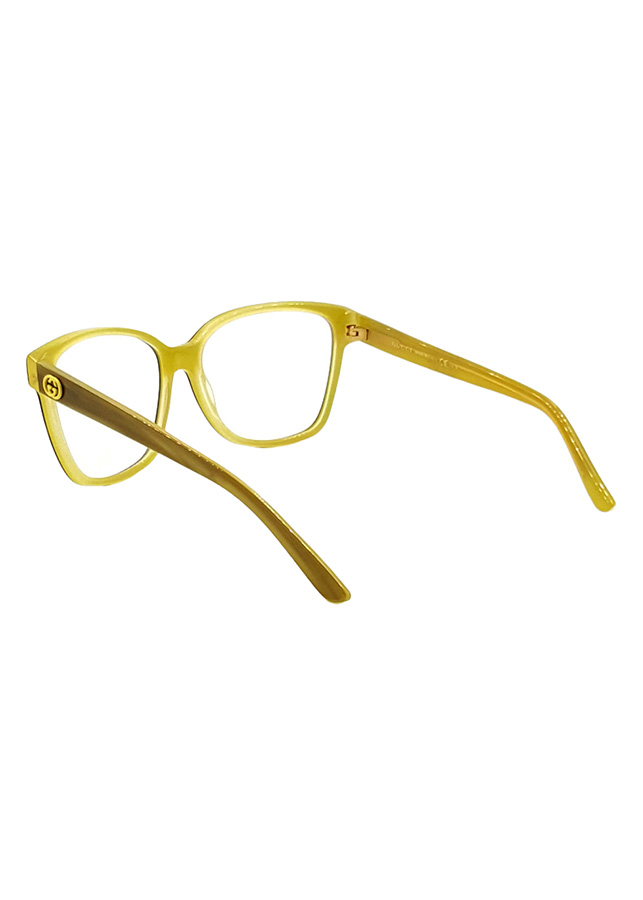Gucci: (38, 367, 71, 407), (385, 329, 417, 361)
